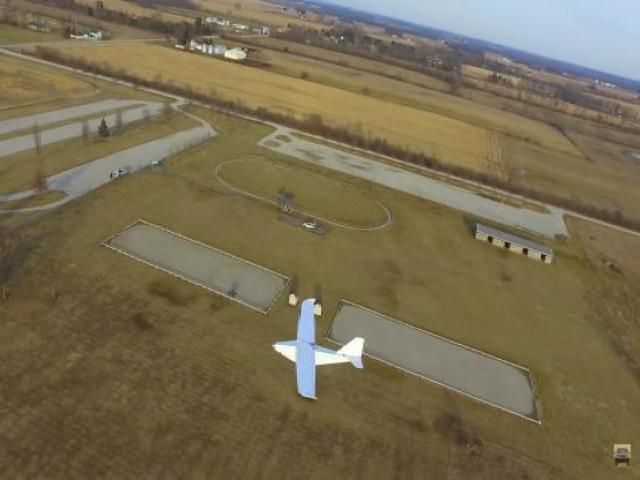uav: (266, 291, 368, 408)
